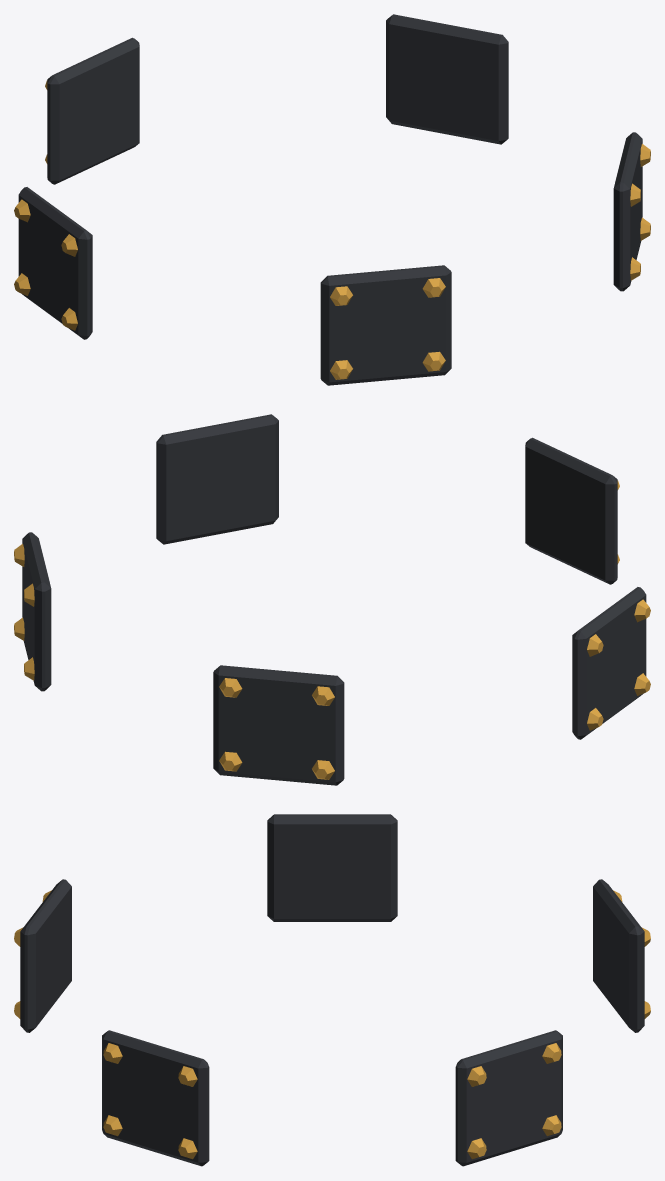
The model's file is CannonKit5.obj.
The picture shows the model from 3 angles, top to bottom: view 1: azimuth 30°, elevation 25°; view 2: azimuth 150°, elevation 25°; view 3: azimuth 270°, elevation 25°; orthographic projection. The views are drawn at different scales.
Parts seen in each view (by area): view 1: CannonKit5; view 2: CannonKit5; view 3: CannonKit5.
Part boxes in pixels (<box>): CannonKit5: <box>14,14,650,385</box>; CannonKit5: <box>14,414,650,785</box>; CannonKit5: <box>14,814,650,1166</box>.
Bounding box in the file's own units: 0.9308 × 0.18 × 0.9787.
